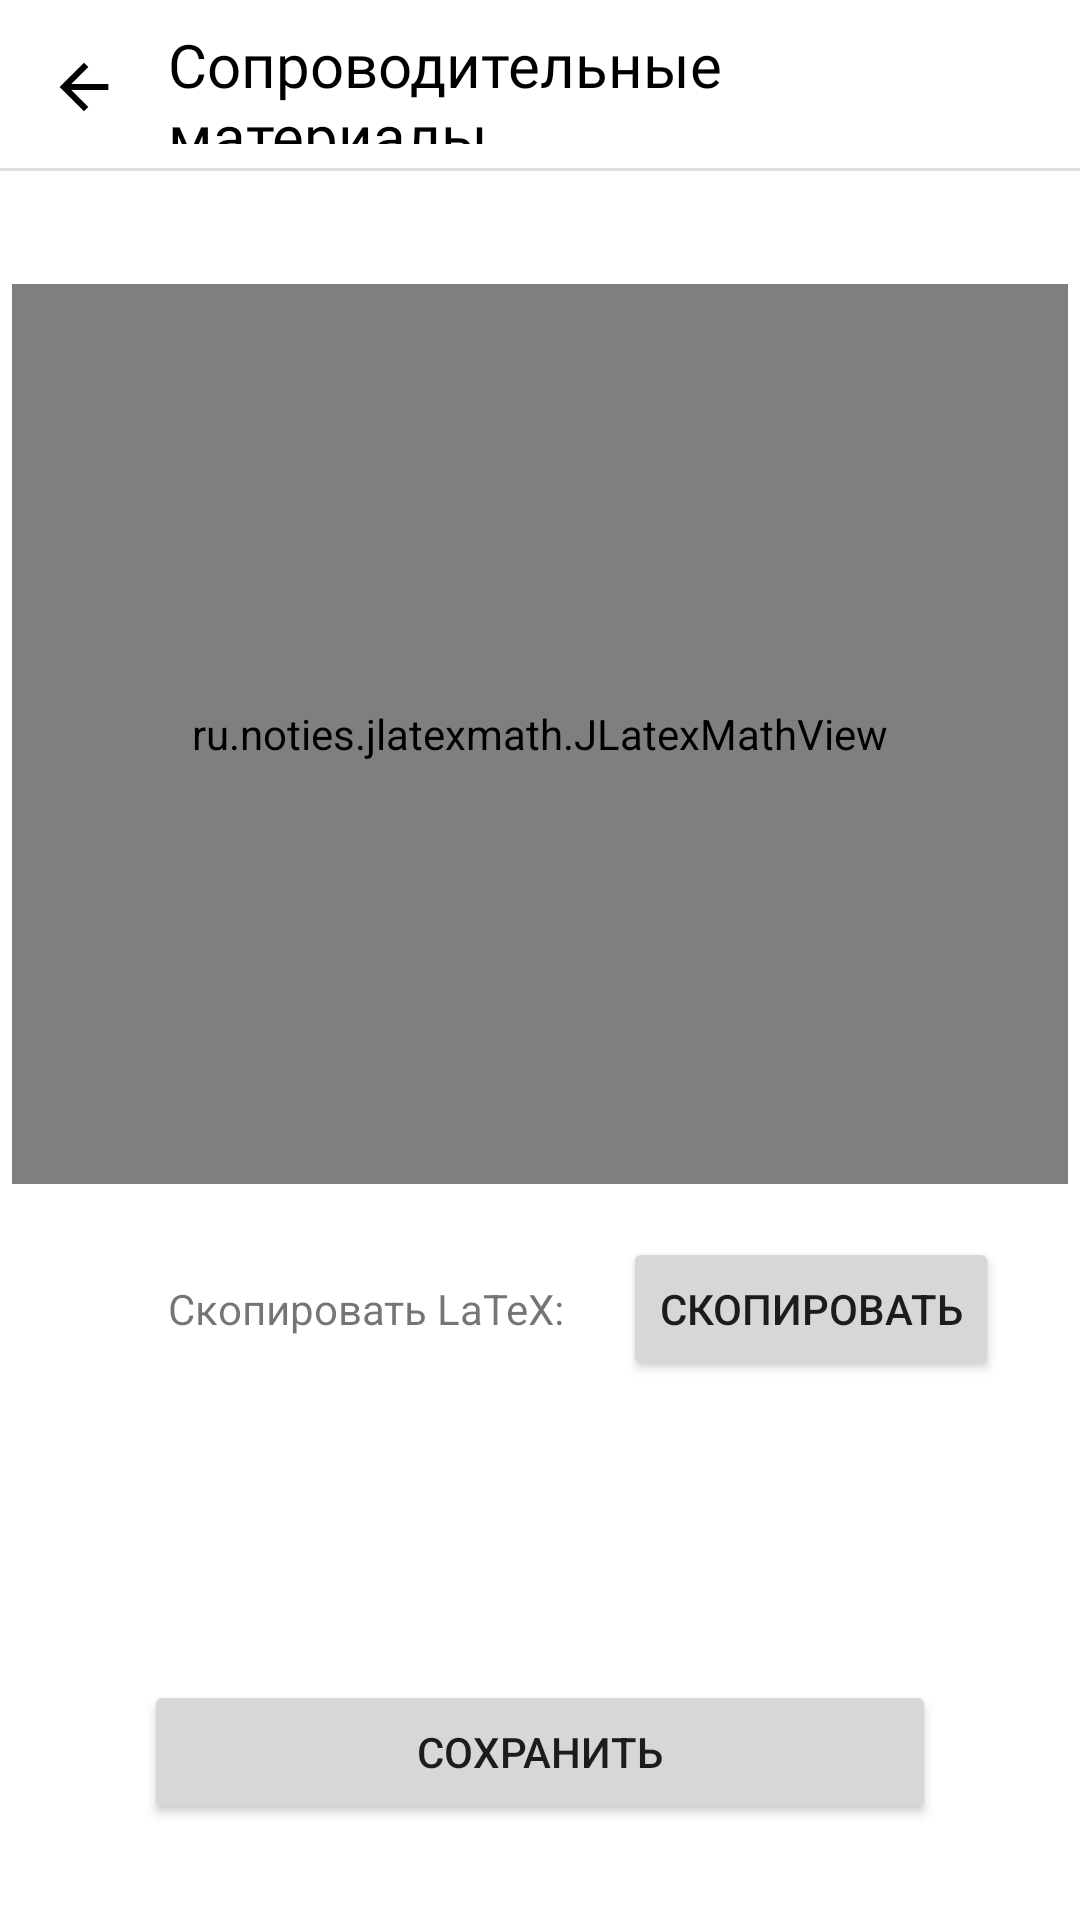

Icons on this 1080px x 1920px Android screen, each with the point to tap as (x=x, y=y):
arrow back: (x=84, y=87)
